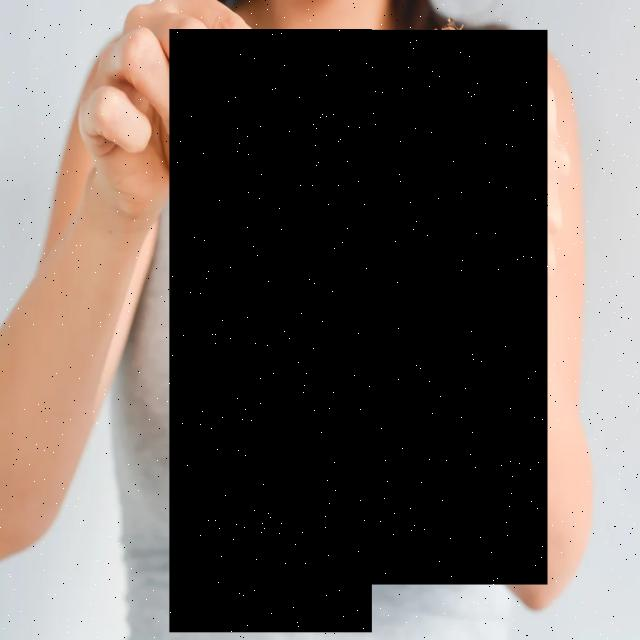Banana: (284, 30, 548, 585), (169, 29, 372, 632)
